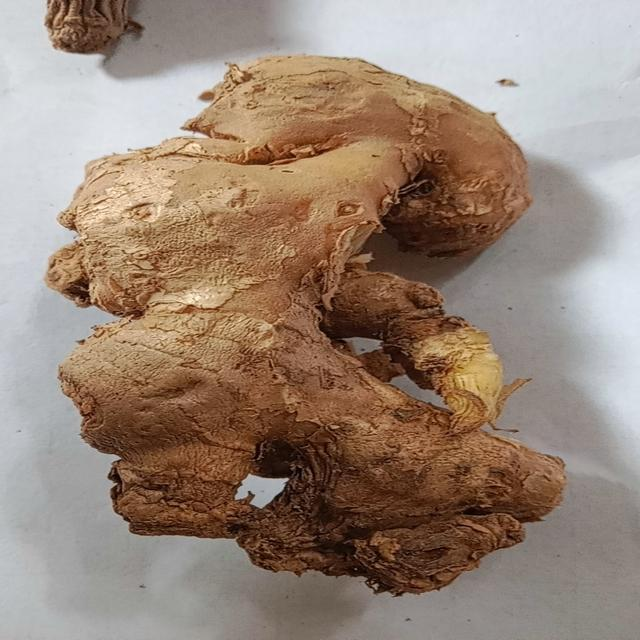ginger: (54, 60, 564, 597)
